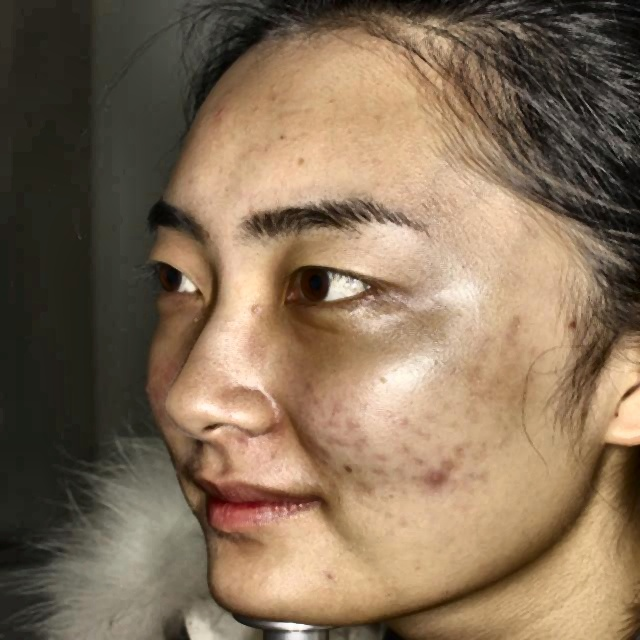comedone: (424, 456, 454, 491)
